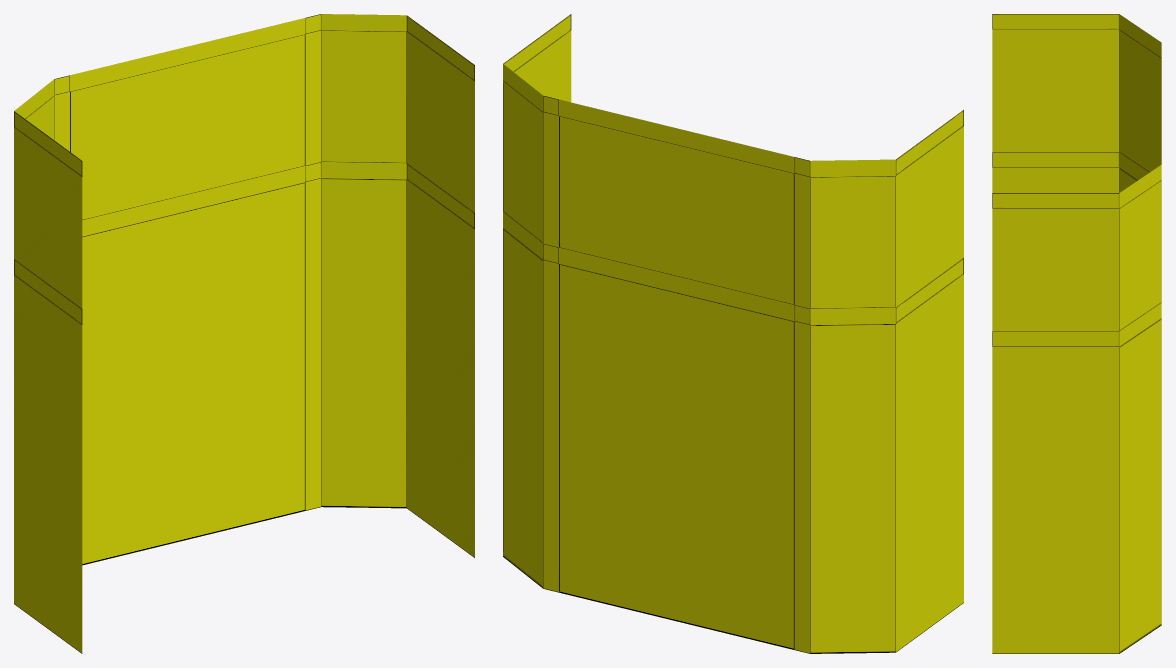
Rendered from Frame_1B.fbx.
The picture shows the model from 3 angles, left to right: view 1: azimuth 30°, elevation 25°; view 2: azimuth 150°, elevation 25°; view 3: azimuth 270°, elevation 25°; orthographic projection. The views are drawn at different scales.
Parts seen in each view (by area): view 1: Frame1B; view 2: Frame1B; view 3: Frame1B.
Boxes of the visible parts, x1=… form: Frame1B: x1=14, y1=14, x2=474, y2=653; Frame1B: x1=503, y1=14, x2=963, y2=653; Frame1B: x1=992, y1=14, x2=1161, y2=653.
Size of the model in its own units: 250 by 300 by 100.
